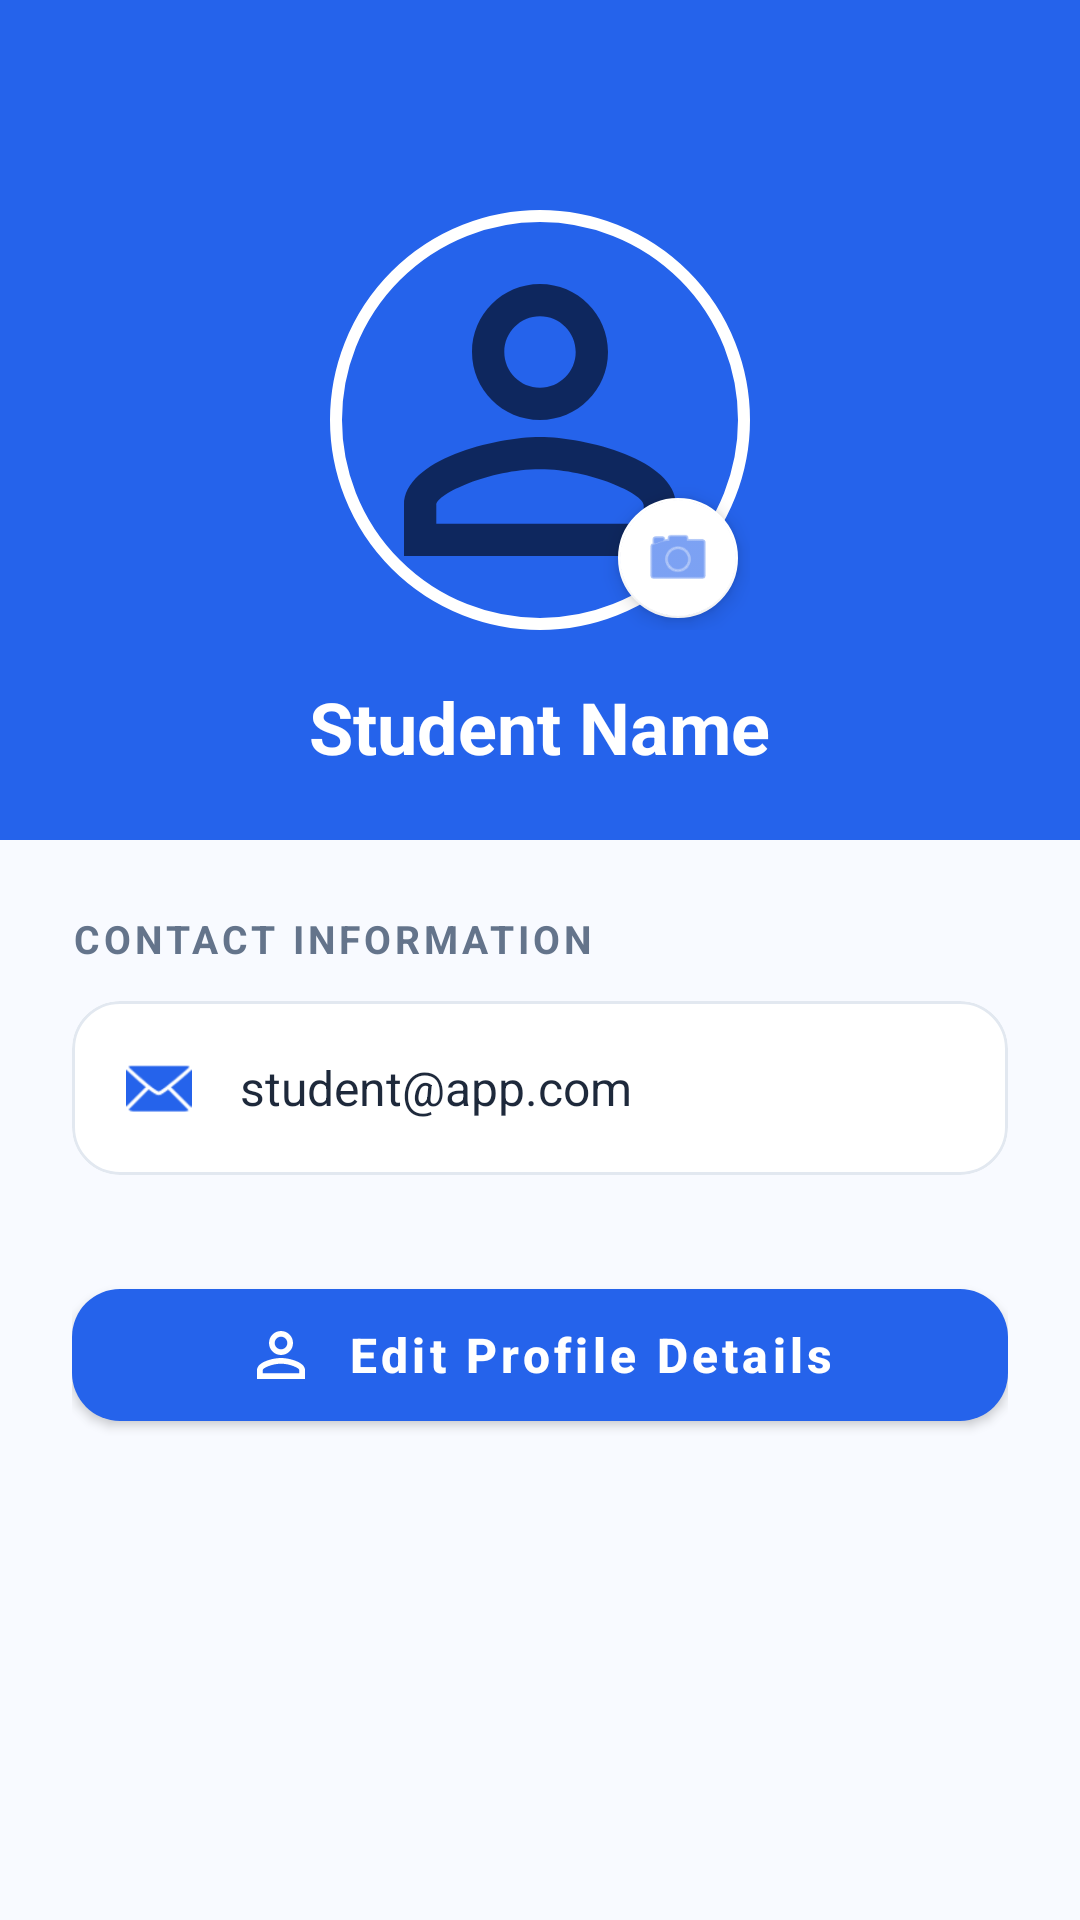

Where to tap for icons on this 1080px×1920px app screen, as (x=x, y=y):
email: (x=159, y=1088)
